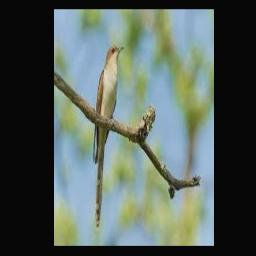Cuckoo: (93, 45, 125, 227)
